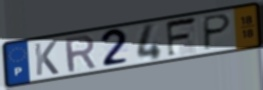2: (97, 27, 133, 71)
4: (135, 22, 164, 62)
F: (164, 15, 200, 60)
K: (33, 40, 61, 78)
P: (202, 12, 233, 53)
R: (63, 32, 99, 75)
